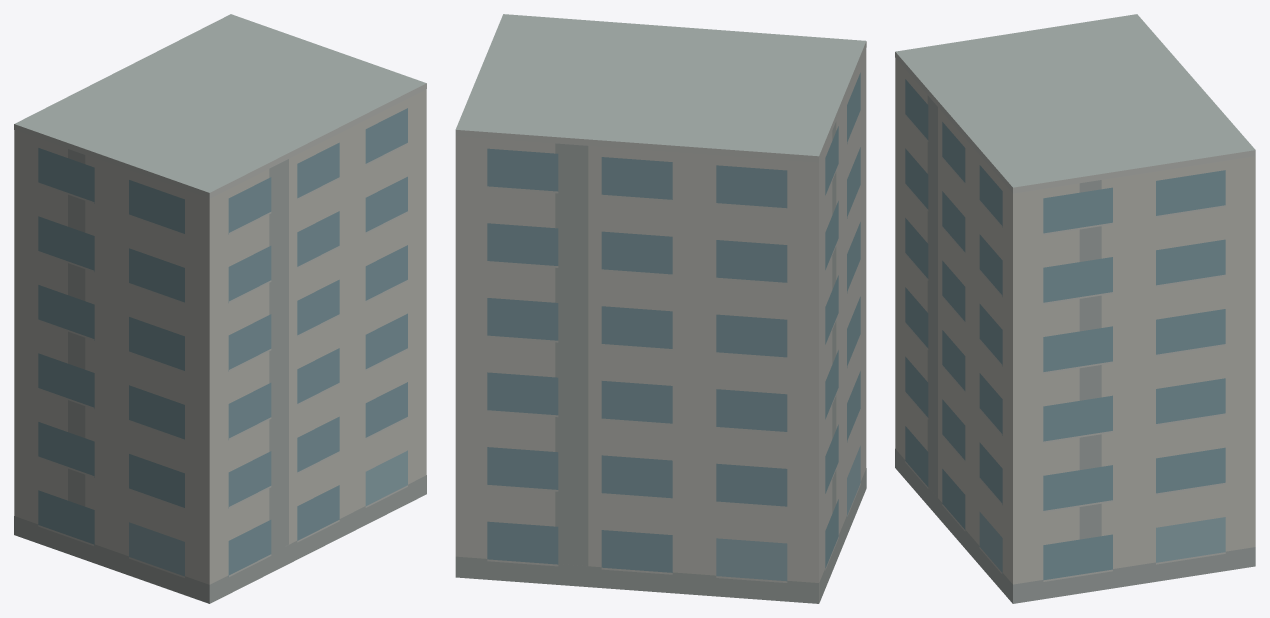
The model's file is survey-upis-32843122.glb.
3 views of the same model, side by side, from view 1: azimuth 30°, elevation 25°; view 2: azimuth 150°, elevation 25°; view 3: azimuth 270°, elevation 25° (orthographic). The views are drawn at different scales.
Visible parts, largest first — view 1: survey-upis-32843122.tmp; view 2: survey-upis-32843122.tmp; view 3: survey-upis-32843122.tmp.
Part boxes in pixels (x1,y1,x2,y2): survey-upis-32843122.tmp: (14,14,426,603); survey-upis-32843122.tmp: (455,14,866,603); survey-upis-32843122.tmp: (895,14,1255,603).
Bounding box in the file's own units: 15.22 × 17 × 13.36.
